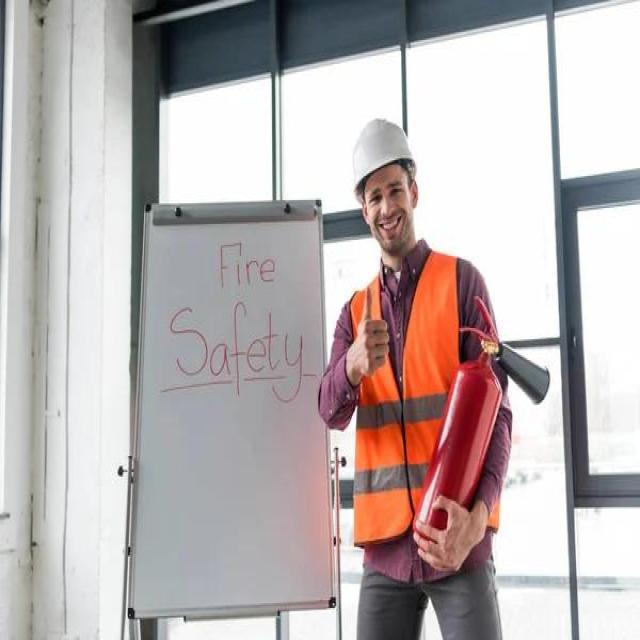fire_extinguisher: (409, 288, 554, 565)
